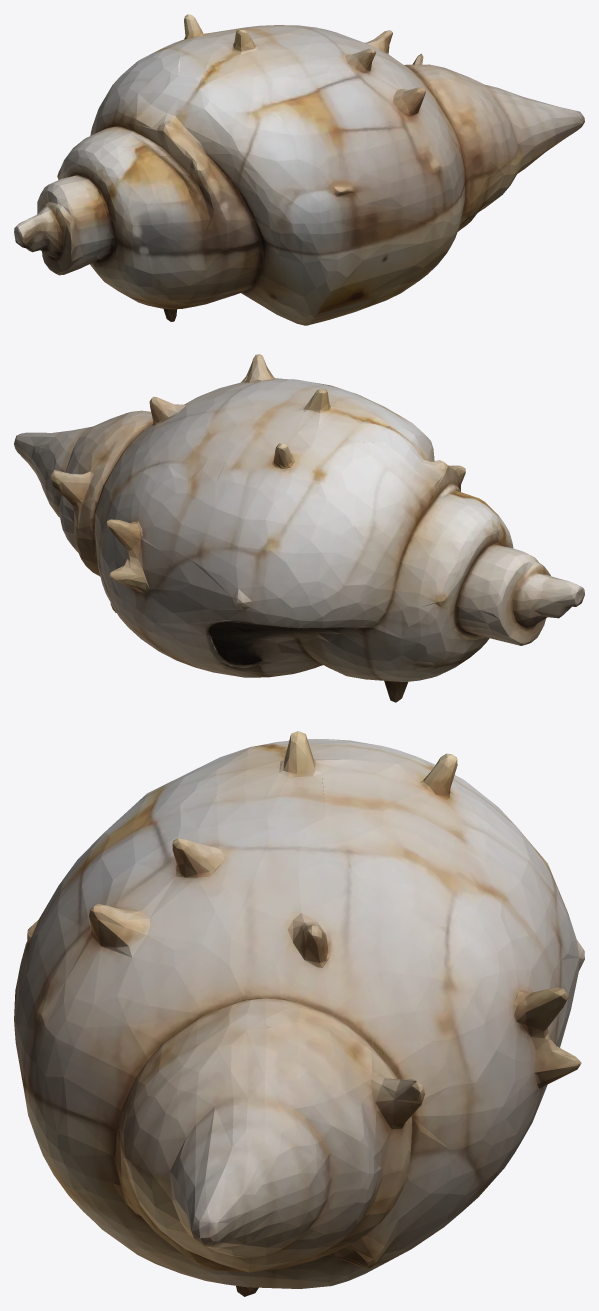
3 renders of one model, top to bottom at view 1: azimuth 30°, elevation 25°; view 2: azimuth 150°, elevation 25°; view 3: azimuth 270°, elevation 25°, orthographic. The views are drawn at different scales.
Parts seen in each view (by area): view 1: world; view 2: world; view 3: world.
Boxes of the visible parts, left/top/right/bottom form: world: left=14, top=14, right=584, bottom=325; world: left=14, top=354, right=584, bottom=702; world: left=14, top=731, right=584, bottom=1296.
Bounding box in the file's own units: 0.9977 × 0.5137 × 0.5368.
Materials: 1 (1 with a texture image).
